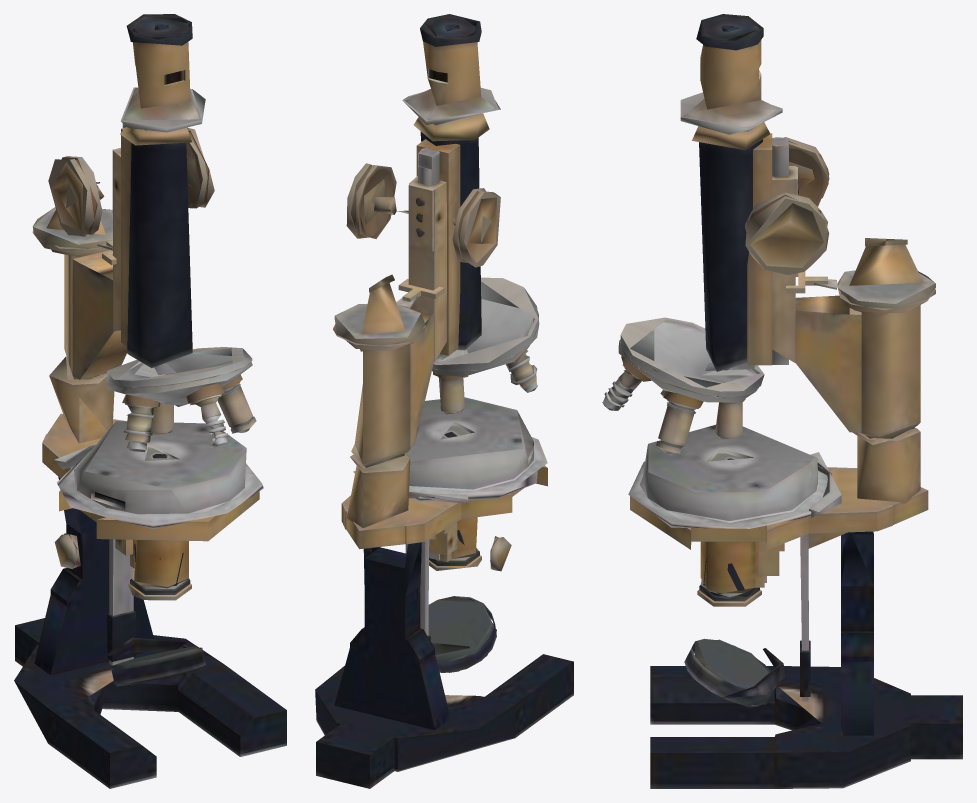
File: vintage_microscope.glb
3 views of the same model, side by side, from view 1: azimuth 30°, elevation 25°; view 2: azimuth 150°, elevation 25°; view 3: azimuth 270°, elevation 25° (orthographic). The views are drawn at different scales.
Visible parts, largest first — view 1: vintage_microscope_rack_mount_support, vintage_microscope_base, vintage_microscope_eye_piece, vintage_microscope_revolver, vintage_microscope_adjustment, vintage_microscope_condenser, vintage_microscope_mirror_arm, vintage_microscope_mirror_base; view 2: vintage_microscope_rack_mount_support, vintage_microscope_base, vintage_microscope_eye_piece, vintage_microscope_adjustment, vintage_microscope_mirror_base, vintage_microscope_revolver, vintage_microscope_condenser, vintage_microscope_mirror_arm; view 3: vintage_microscope_rack_mount_support, vintage_microscope_base, vintage_microscope_eye_piece, vintage_microscope_adjustment, vintage_microscope_revolver, vintage_microscope_condenser, vintage_microscope_mirror_base, vintage_microscope_mirror_arm.
Boxes of the visible parts, x1,y1,x2,y2 form: vintage_microscope_rack_mount_support: (32,148,263,569); vintage_microscope_base: (14,477,286,788); vintage_microscope_eye_piece: (106,14,252,387); vintage_microscope_revolver: (106,362,256,452); vintage_microscope_adjustment: (48,128,214,236); vintage_microscope_condenser: (128,447,191,600); vintage_microscope_mirror_arm: (105,539,213,665); vintage_microscope_mirror_base: (111,646,205,686); vintage_microscope_rack_mount_support: (333,176,547,571); vintage_microscope_base: (315,542,573,788); vintage_microscope_eye_piece: (402,14,539,371); vintage_microscope_adjustment: (346,163,500,267); vintage_microscope_mirror_base: (428,596,496,672); vintage_microscope_revolver: (432,324,539,414); vintage_microscope_condenser: (429,425,481,570); vintage_microscope_mirror_arm: (405,539,469,654); vintage_microscope_rack_mount_support: (628,166,935,575); vintage_microscope_base: (650,531,962,788); vintage_microscope_eye_piece: (620,14,788,397); vintage_microscope_adjustment: (745,137,829,275); vintage_microscope_revolver: (602,339,758,454); vintage_microscope_condenser: (697,453,766,606); vintage_microscope_mirror_base: (684,638,776,707); vintage_microscope_mirror_arm: (722,534,810,701).
Size of the model in its own units: 0.1042 by 0.3996 by 0.1819.
Materials: 2 (2 with a texture image).
